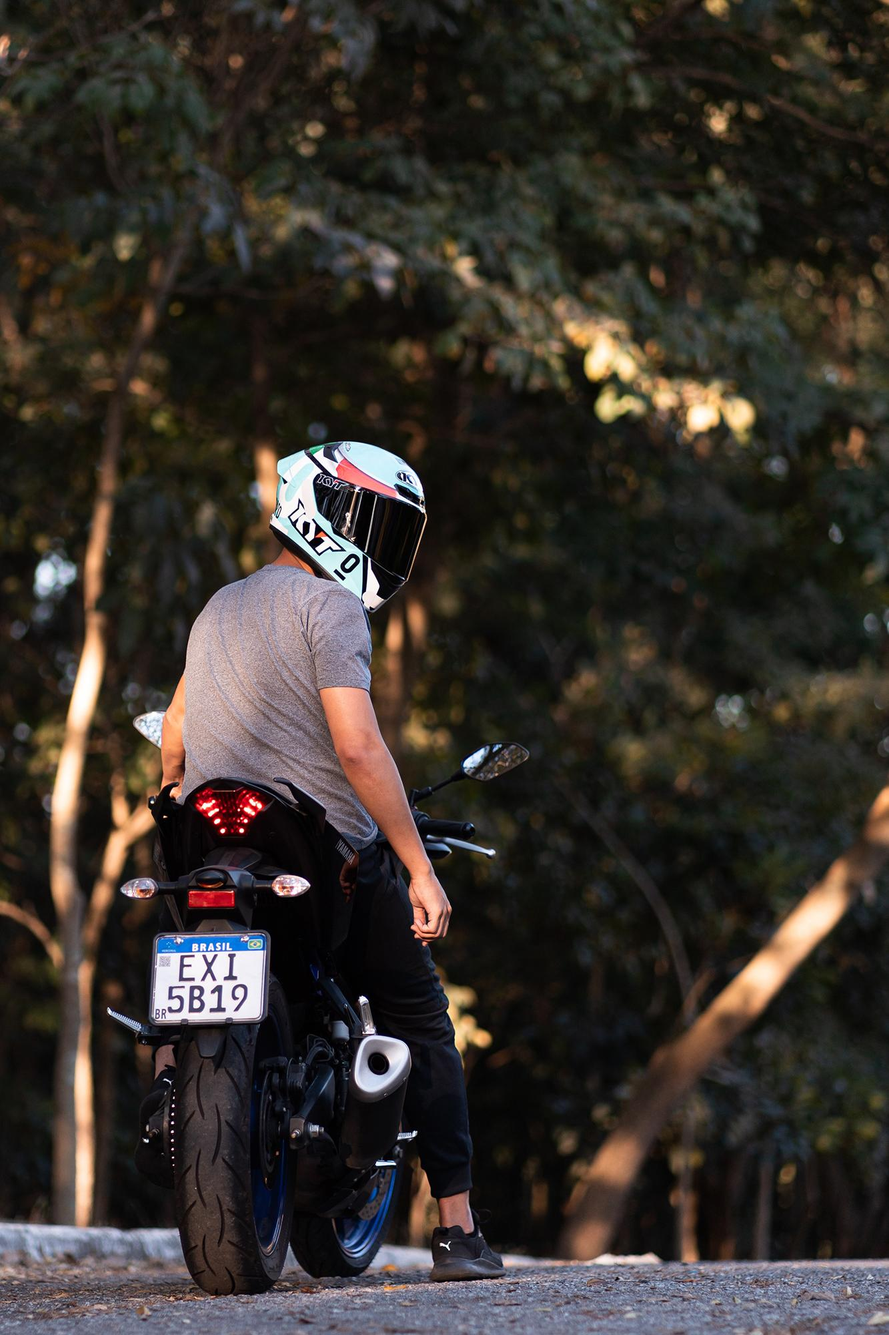helmet: (268, 440, 429, 617)
